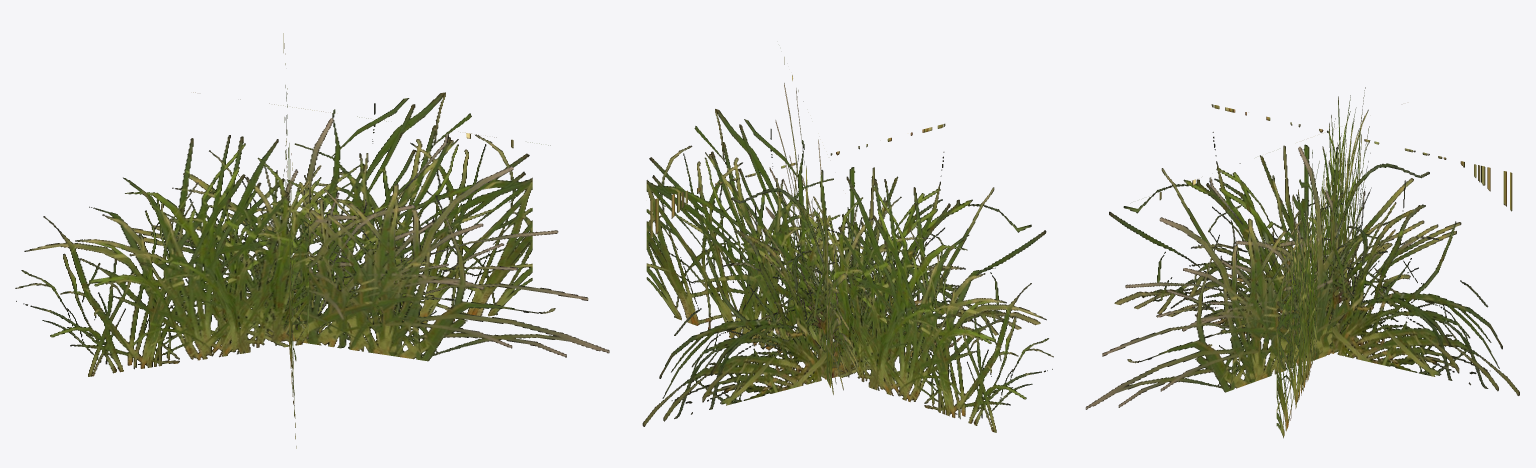
The model's file is grass_clump_2.glb.
3 views of the same model, side by side, from view 1: azimuth 30°, elevation 25°; view 2: azimuth 150°, elevation 25°; view 3: azimuth 270°, elevation 25° (orthographic). The views are drawn at different scales.
Parts seen in each view (by area): view 1: GrassClump; view 2: GrassClump; view 3: GrassClump.
Part boxes in pixels (x1,y1,x2,y2): GrassClump: (15,33,609,448); GrassClump: (642,57,1053,432); GrassClump: (1085,87,1519,438).
Size of the model in its own units: 0.8752 by 0.417 by 0.7392.
Materials: 1 (1 with a texture image).
